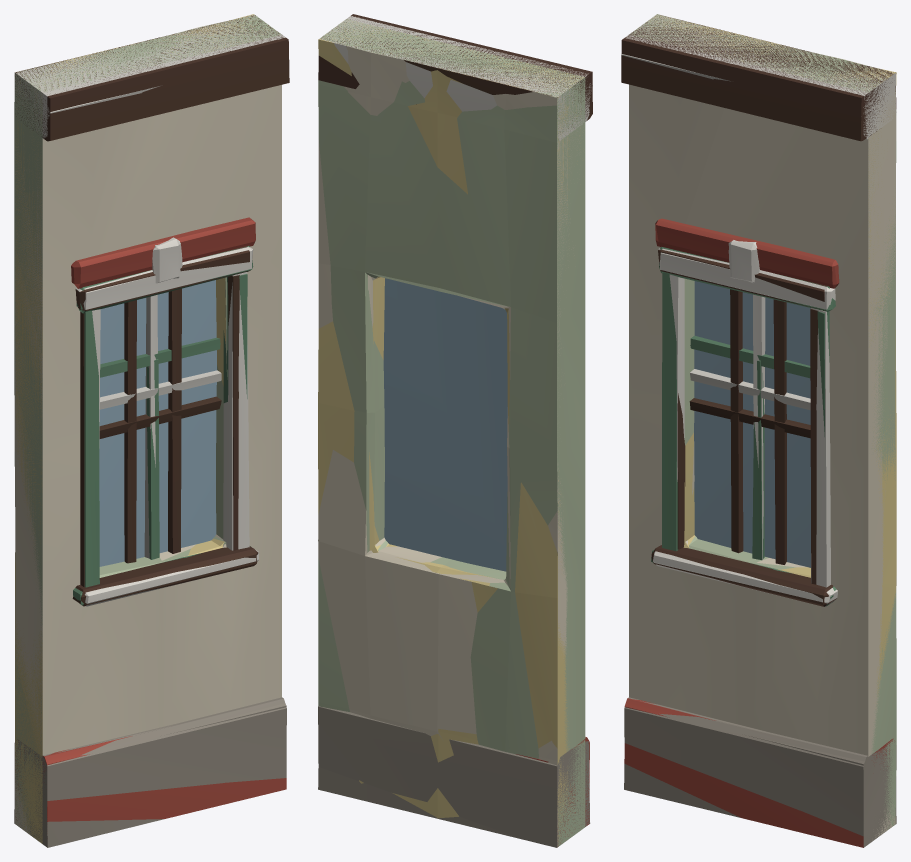
File: wall.window.glb
The picture shows the model from 3 angles, left to right: view 1: azimuth 30°, elevation 25°; view 2: azimuth 150°, elevation 25°; view 3: azimuth 330°, elevation 25°; orthographic projection.
Visible parts, largest first — view 1: wall.window.v2.mesh, wall.window.v1.mesh, wall.window.v0.mesh; view 2: wall.window.v0.mesh, wall.window.v1.mesh, wall.window.v2.mesh; view 3: wall.window.v2.mesh, wall.window.v1.mesh, wall.window.v0.mesh.
Part boxes in pixels (left/top/right/bottom): wall.window.v2.mesh: left=14, top=14, right=286, bottom=847; wall.window.v1.mesh: left=14, top=14, right=289, bottom=843; wall.window.v0.mesh: left=14, top=15, right=286, bottom=846; wall.window.v0.mesh: left=318, top=16, right=589, bottom=847; wall.window.v1.mesh: left=318, top=14, right=592, bottom=846; wall.window.v2.mesh: left=318, top=16, right=592, bottom=847; wall.window.v2.mesh: left=621, top=14, right=896, bottom=847; wall.window.v1.mesh: left=621, top=15, right=896, bottom=847; wall.window.v0.mesh: left=624, top=14, right=896, bottom=847.
Size of the model in its own units: 0.9999 by 3 by 0.2815.
